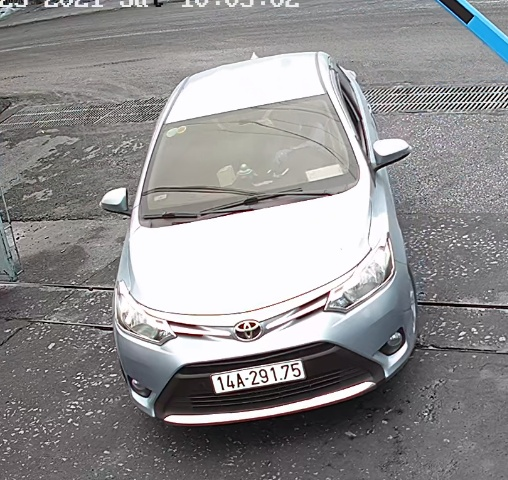vehicle plate: (202, 361, 317, 393)
